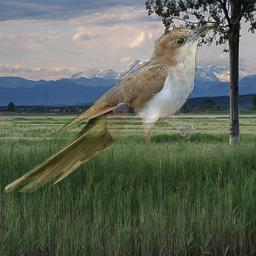Cuckoo: (3, 24, 216, 194)
